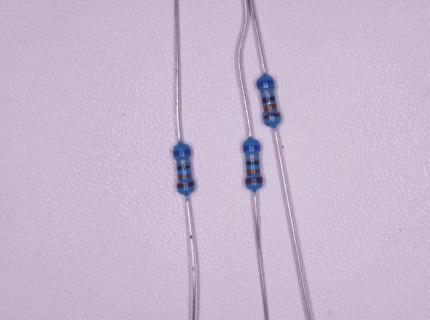Black band: (263, 96, 276, 104), (246, 161, 260, 166), (177, 166, 191, 171)
Blue band: (257, 80, 274, 87), (174, 149, 190, 155), (244, 146, 260, 150)
Brown band: (246, 178, 263, 185), (178, 181, 194, 188), (264, 113, 280, 118)
Grey band: (177, 159, 189, 164), (246, 156, 259, 160), (261, 92, 274, 96)
Orange band: (179, 174, 191, 181), (264, 104, 276, 111), (247, 169, 260, 174)
